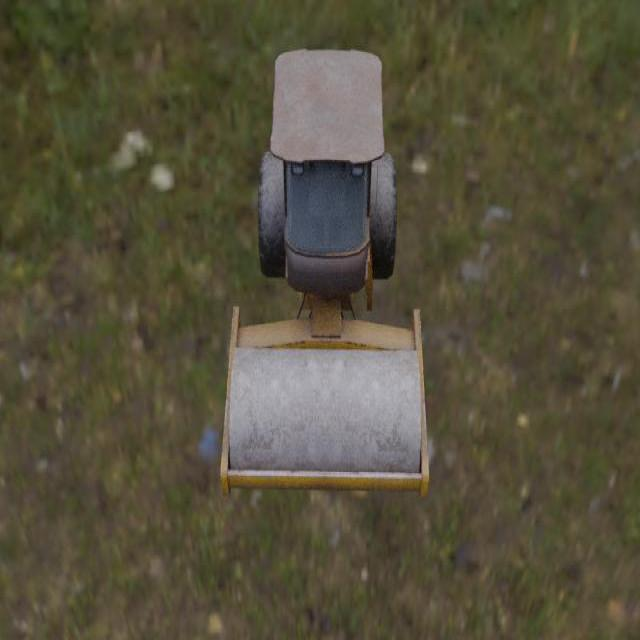Roller: (220, 48, 429, 500)
